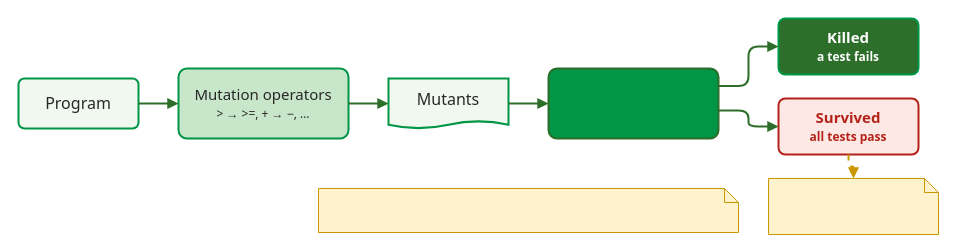
The diagram is 956 pixels wide and 252 high, and some of its shapes have lost their labels. Each missing label, with the box of its shape:
Equivalent? same behaviour: remove: (768, 178, 938, 234)
Mutation score = killed / (all mutants − equivalent): (318, 188, 738, 232)
Run the test suite on each mutant: (547, 67, 719, 139)
